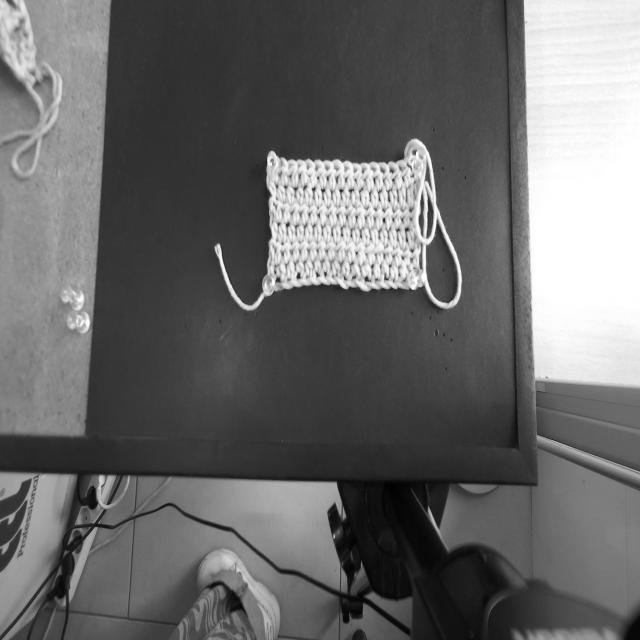ch: (350, 280, 372, 292), (334, 276, 349, 290), (364, 281, 382, 290), (375, 280, 391, 289), (393, 282, 410, 290), (384, 280, 399, 289), (288, 280, 304, 288), (325, 276, 339, 285), (317, 277, 331, 286), (276, 282, 294, 289), (343, 281, 359, 288), (306, 278, 321, 285), (297, 279, 312, 285)
hdc: (397, 160, 412, 189), (323, 161, 337, 192), (360, 163, 374, 193), (378, 161, 392, 191), (313, 160, 327, 190), (388, 161, 402, 190), (370, 162, 383, 192), (304, 159, 317, 189), (348, 256, 362, 282), (332, 160, 344, 190), (354, 201, 366, 230), (373, 200, 384, 231), (390, 241, 403, 267), (274, 256, 287, 282), (287, 160, 299, 188), (284, 253, 295, 283), (382, 201, 393, 231), (343, 160, 354, 190), (360, 257, 372, 284), (329, 251, 341, 278), (289, 197, 300, 226), (344, 238, 356, 264), (281, 234, 291, 265), (304, 176, 314, 207), (354, 238, 365, 266), (392, 202, 403, 230), (307, 199, 318, 227), (316, 199, 327, 227), (326, 200, 337, 228), (296, 159, 307, 187), (346, 199, 356, 229), (320, 252, 331, 279), (307, 235, 318, 262), (303, 251, 313, 280), (290, 235, 300, 264), (281, 195, 291, 224), (274, 192, 283, 224), (293, 254, 304, 280), (335, 237, 346, 263), (365, 202, 375, 230), (336, 200, 346, 228), (299, 198, 309, 226), (372, 260, 384, 283), (383, 239, 393, 266), (340, 255, 350, 282), (299, 235, 309, 262), (360, 182, 370, 209), (287, 214, 296, 244), (353, 163, 363, 190), (274, 233, 282, 266), (325, 237, 336, 261), (397, 222, 406, 251), (389, 182, 398, 211), (398, 182, 407, 211), (279, 157, 288, 186), (411, 243, 421, 269), (401, 243, 412, 266), (398, 260, 409, 283), (406, 222, 415, 250), (365, 241, 375, 266), (316, 236, 326, 261), (266, 173, 276, 198), (388, 222, 397, 249), (379, 183, 388, 210), (314, 180, 323, 207), (286, 177, 295, 204), (277, 176, 286, 203), (374, 241, 384, 265), (279, 215, 287, 245), (313, 253, 322, 279), (361, 220, 370, 246), (323, 217, 332, 243), (296, 218, 305, 244), (323, 181, 332, 207), (342, 220, 351, 245), (401, 203, 410, 228), (351, 182, 360, 207), (342, 183, 351, 208), (407, 179, 414, 210), (389, 259, 398, 283), (370, 184, 379, 208), (333, 217, 341, 244), (305, 217, 313, 243), (296, 179, 304, 205), (380, 223, 388, 248), (314, 218, 322, 243), (333, 183, 341, 208), (352, 222, 360, 246), (381, 259, 389, 282), (370, 222, 378, 245), (271, 213, 278, 239)
